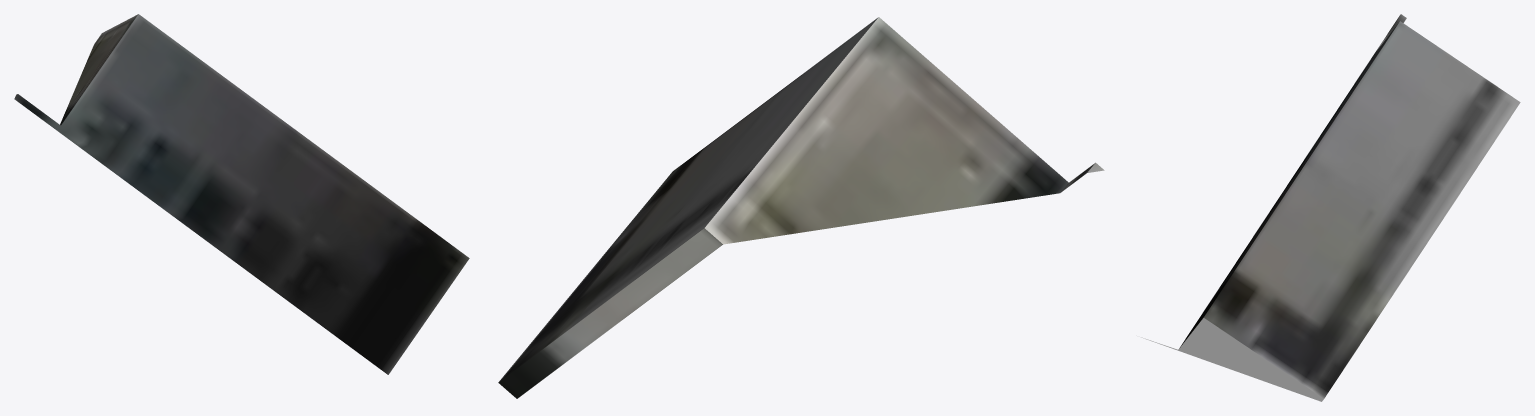
File: 39530_bldg_Building.glb
3 views of the same model, side by side, from view 1: azimuth 30°, elevation 25°; view 2: azimuth 150°, elevation 25°; view 3: azimuth 270°, elevation 25° (orthographic). The views are drawn at different scales.
Size of the model in its own units: 18.83 by 14.43 by 18.52.
Materials: 2 (1 with a texture image).
